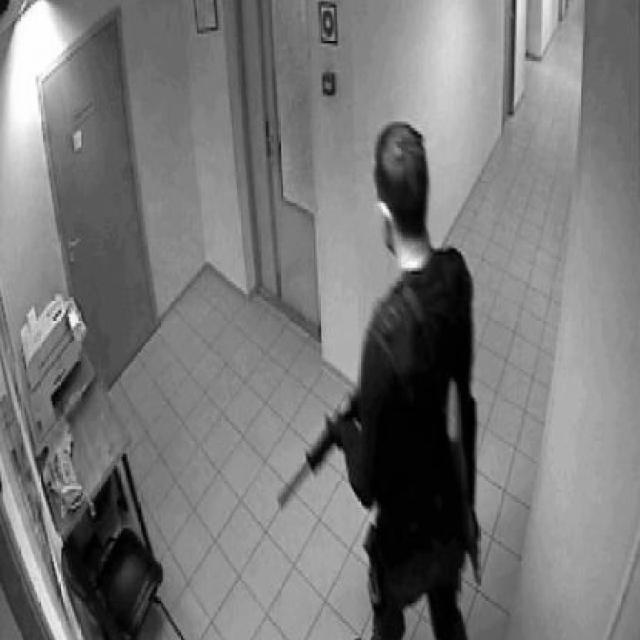weapon: (276, 387, 367, 528)
